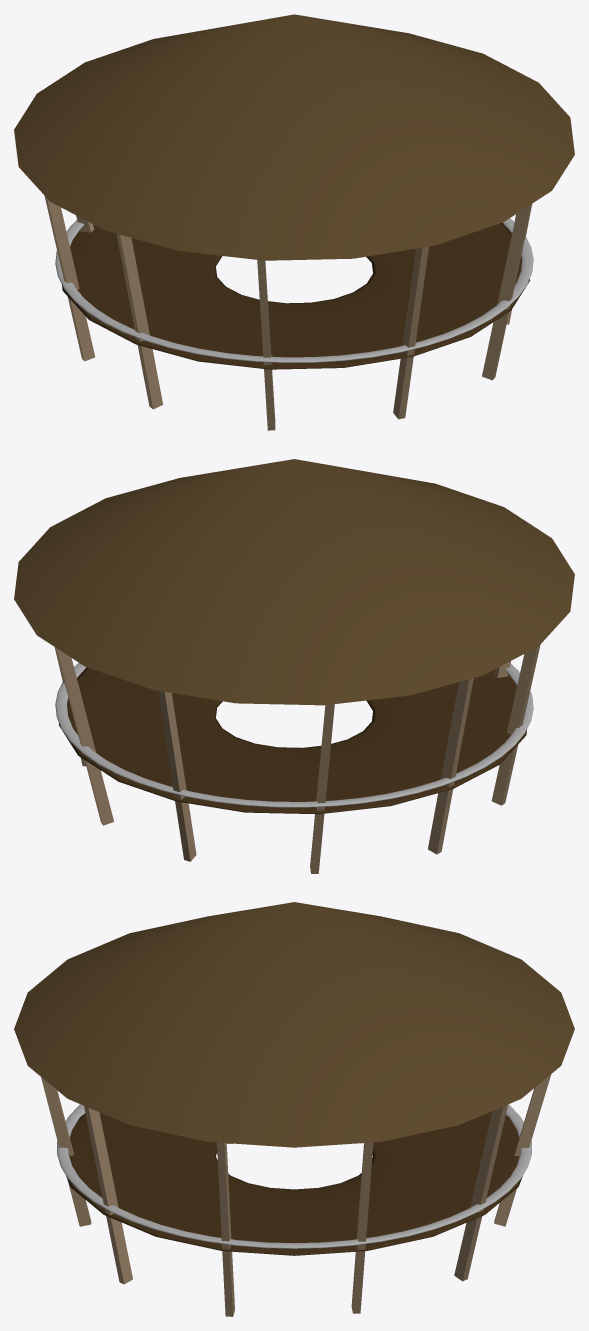
Rendered from Tree battle map.fbx.
3 renders of one model, top to bottom at view 1: azimuth 30°, elevation 25°; view 2: azimuth 150°, elevation 25°; view 3: azimuth 270°, elevation 25°, orthographic.
Parts seen in each view (by area): view 1: pCone1, pTorus2, pTorus1, pCube13, pCube7, pCube5, pCube12, pCube14; view 2: pCone1, pTorus2, pTorus1, pCube12, pCube6, pCube10, pCube13, pCube11; view 3: pCone1, pTorus2, pTorus1, pCube7, pCube10, pCube8, pCube9, pCube5, pCube6.
Part boxes in pixels (x1,y1,x2,y2): pCone1: (14, 14, 574, 260); pTorus2: (62, 223, 530, 369); pTorus1: (55, 218, 533, 362); pCube13: (116, 233, 163, 409); pCube7: (482, 204, 532, 380); pCube5: (393, 246, 428, 419); pCube12: (44, 196, 95, 361); pCube14: (257, 260, 275, 430); pCone1: (14, 459, 574, 705); pTorus2: (59, 667, 526, 814); pTorus1: (55, 663, 533, 807); pCube12: (428, 678, 473, 854); pCube6: (158, 691, 196, 861); pCube10: (55, 647, 113, 825); pCube13: (491, 645, 540, 805); pCube11: (310, 704, 334, 873); pCone1: (14, 902, 574, 1147); pTorus2: (66, 1111, 522, 1255); pTorus1: (57, 1104, 531, 1248); pCube7: (84, 1106, 132, 1284); pCube10: (454, 1104, 508, 1281); pCube8: (217, 1142, 234, 1316); pCube9: (351, 1142, 373, 1313); pCube5: (41, 1077, 91, 1226); pCube6: (494, 1074, 551, 1226).
Size of the model in its own units: 8 by 5.15 by 8.
